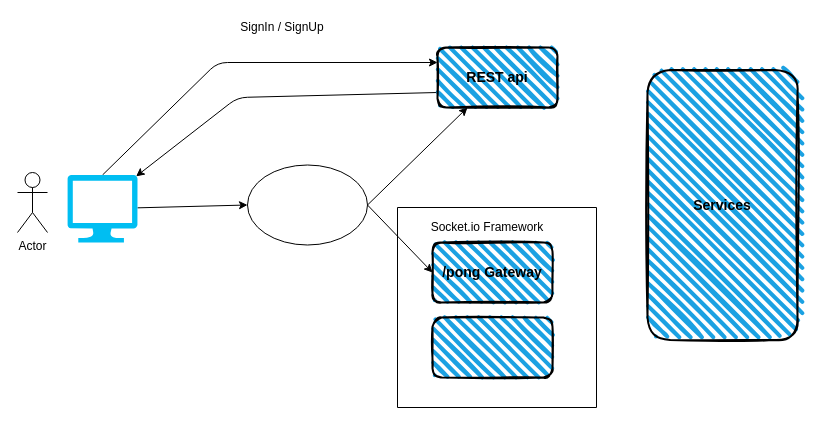
Image size: 816x425. Some labels were removed from this diagram. The shapes that lost their labels are listed below. From the top down, each one's box as (x1, y1, x2, y2) in pixels, then its label:
(246, 164, 368, 245): Auth JWT Token
(431, 316, 553, 378): /app Gateway
